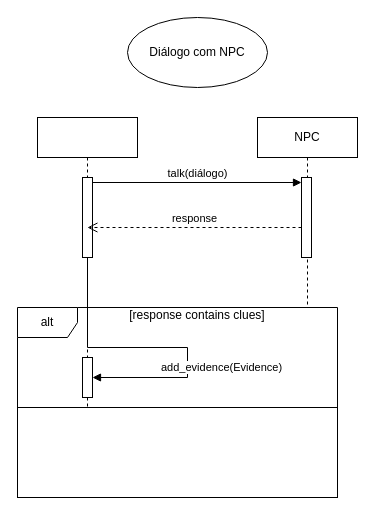
This 375x515 diagram has some shape labels left out. Here are the shapes that lost their labels. From the top down, the centre of each, then its label:
At point (87, 262): "Character".
At point (177, 452): "[response is empty] Nenhuma ação".
